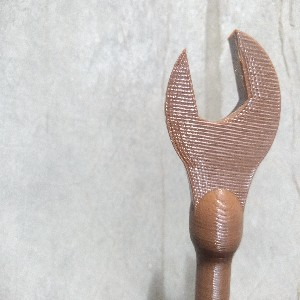spanner: (163, 30, 282, 300)
